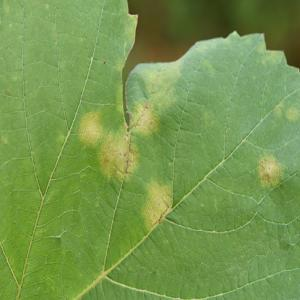Folha: (0, 0, 299, 298)
Fungo: (77, 95, 158, 184), (97, 130, 129, 182), (142, 178, 173, 230), (133, 97, 159, 136), (78, 109, 103, 147), (258, 155, 284, 189), (125, 147, 137, 175), (284, 106, 299, 123), (103, 60, 106, 64)
